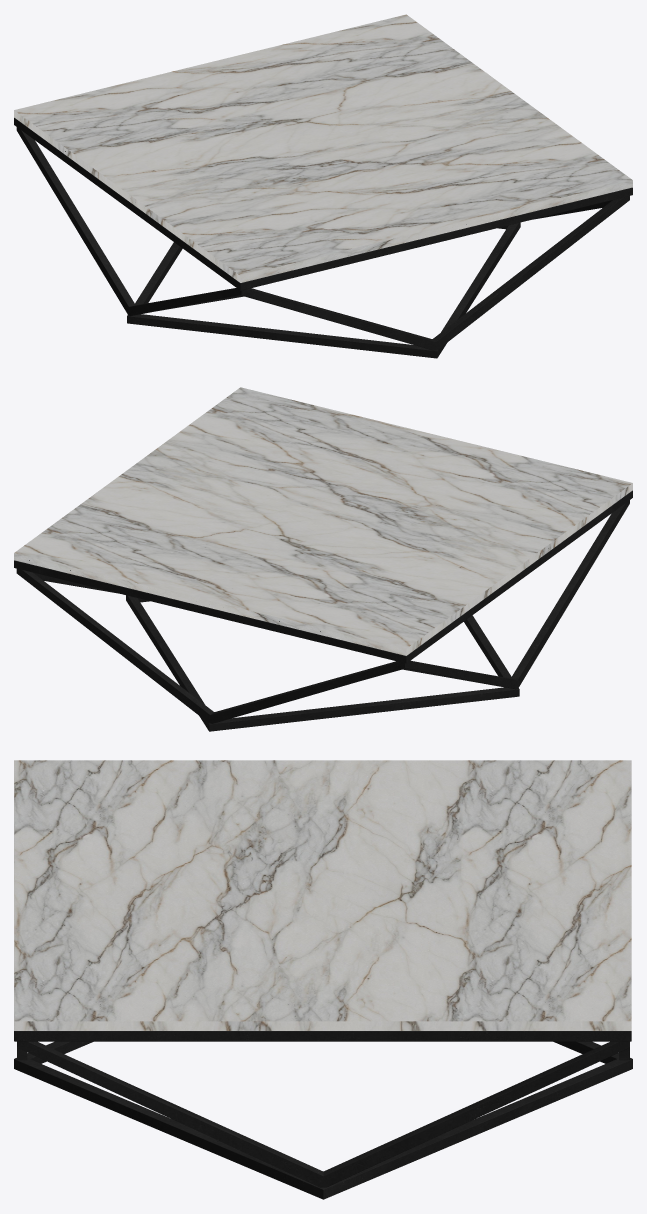
File: Coffee_Table_Hexagon.glb
3 views of the same model, one above another, from view 1: azimuth 30°, elevation 25°; view 2: azimuth 150°, elevation 25°; view 3: azimuth 270°, elevation 25° (orthographic). The views are drawn at different scales.
Parts seen in each view (by area): view 1: coffee table hexa; view 2: coffee table hexa; view 3: coffee table hexa.
Boxes of the visible parts, box(x1,y1,x2,y2) form: coffee table hexa: box(14, 14, 632, 358); coffee table hexa: box(14, 387, 632, 731); coffee table hexa: box(14, 760, 632, 1199).
Bounding box in the file's own units: 1.1 × 0.3494 × 1.1.
2 materials, 2 textured.
